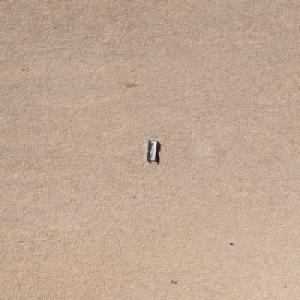ClampPart: (145, 139, 158, 161)
